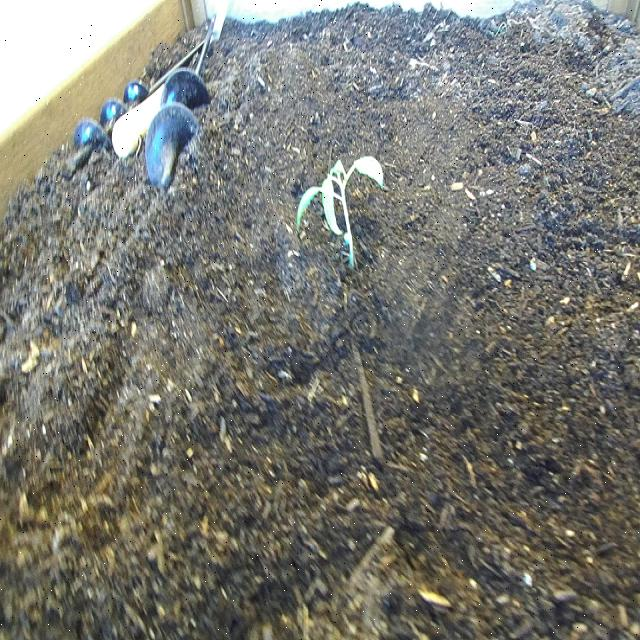Healthy: (289, 143, 397, 281)
